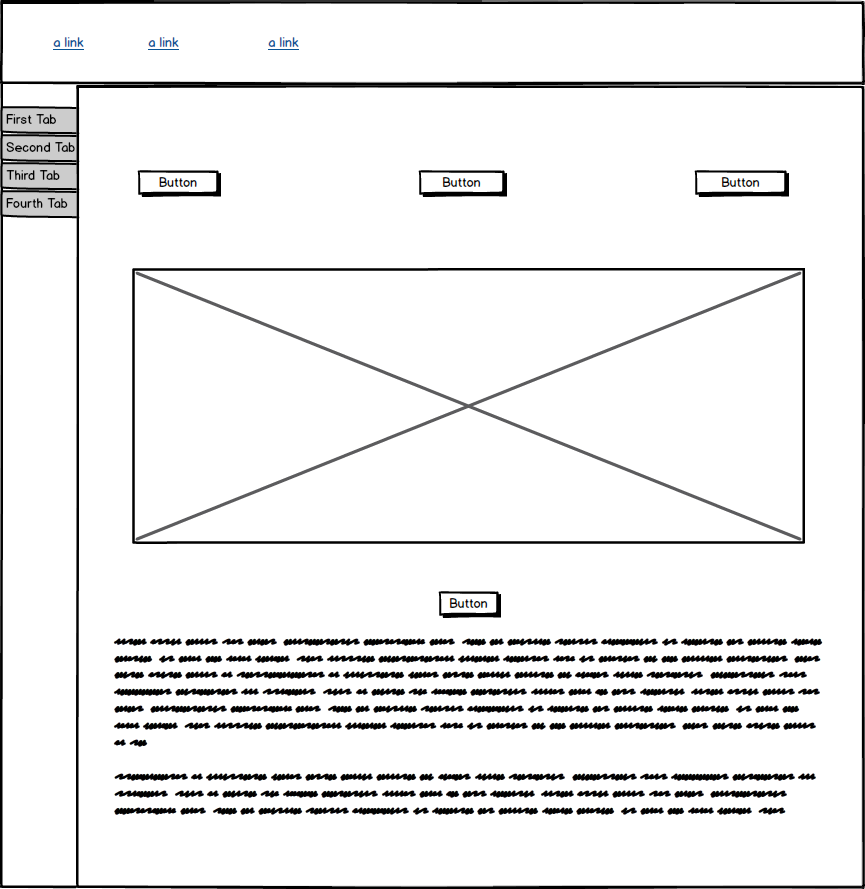button: (691, 161, 799, 205), (416, 165, 514, 200), (136, 167, 222, 200), (436, 586, 506, 620)
image: (122, 263, 817, 551)
navlink: (144, 32, 186, 54), (263, 32, 307, 52), (49, 33, 91, 51)
p: (109, 633, 829, 828)
sidebar: (1, 99, 87, 227)
